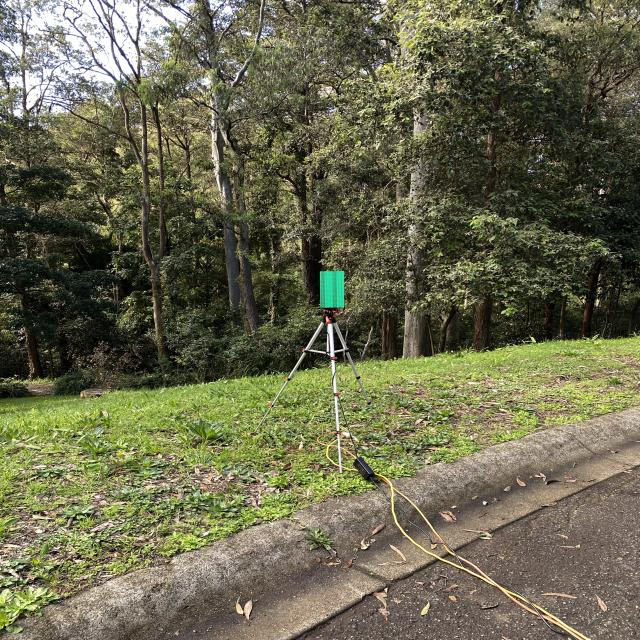matrix: (314, 266, 352, 313)
